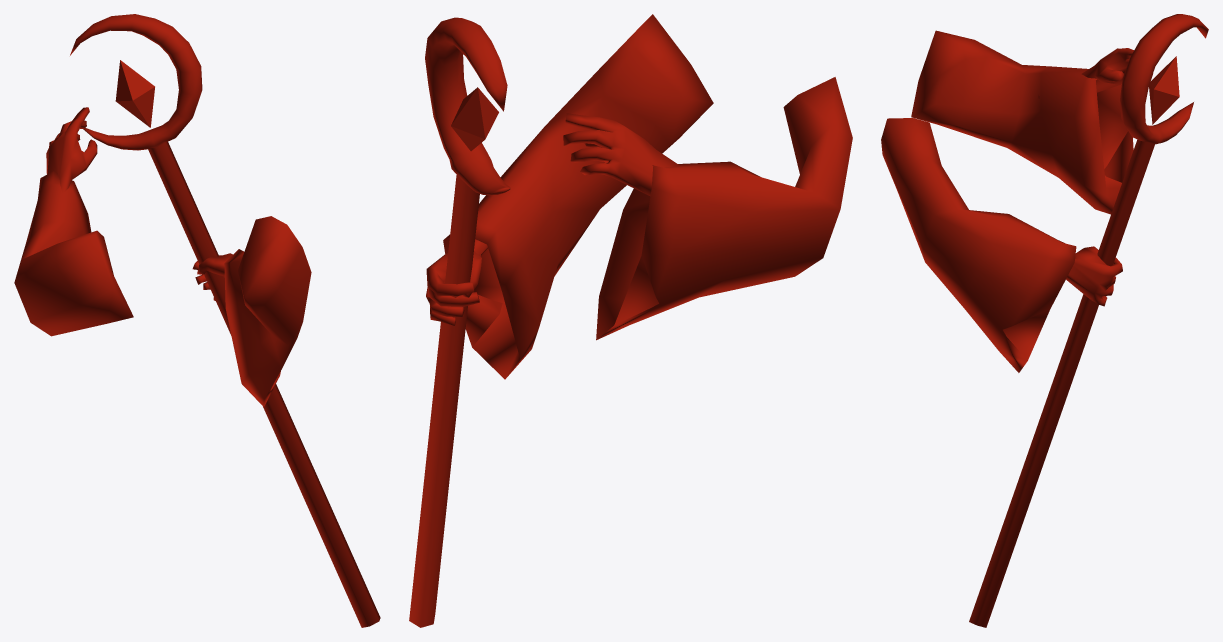
Rendered from arm_000084.obj.
3 renders of one model, left to right at view 1: azimuth 30°, elevation 25°; view 2: azimuth 150°, elevation 25°; view 3: azimuth 270°, elevation 25°, orthographic. The views are drawn at different scales.
Visible parts, largest first — view 1: LowPoly_Warlock.000_Plane.005; view 2: LowPoly_Warlock.000_Plane.005; view 3: LowPoly_Warlock.000_Plane.005.
Boxes of the visible parts, bbox=[...] form: LowPoly_Warlock.000_Plane.005: bbox=[14, 14, 380, 627]; LowPoly_Warlock.000_Plane.005: bbox=[409, 14, 852, 627]; LowPoly_Warlock.000_Plane.005: bbox=[881, 14, 1208, 627].
Size of the model in its own units: 1.13 by 1.76 by 0.9582.
